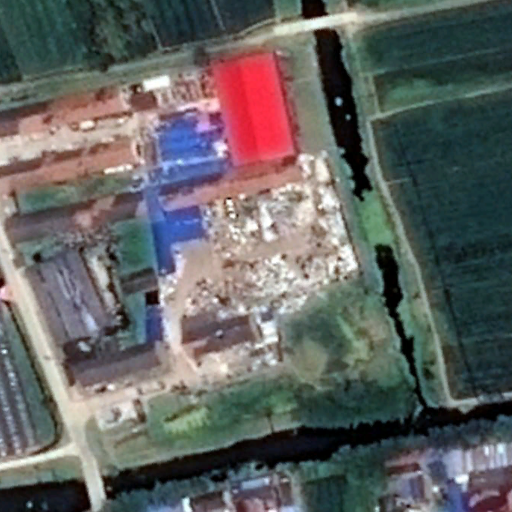msw: (184, 173, 356, 321)
